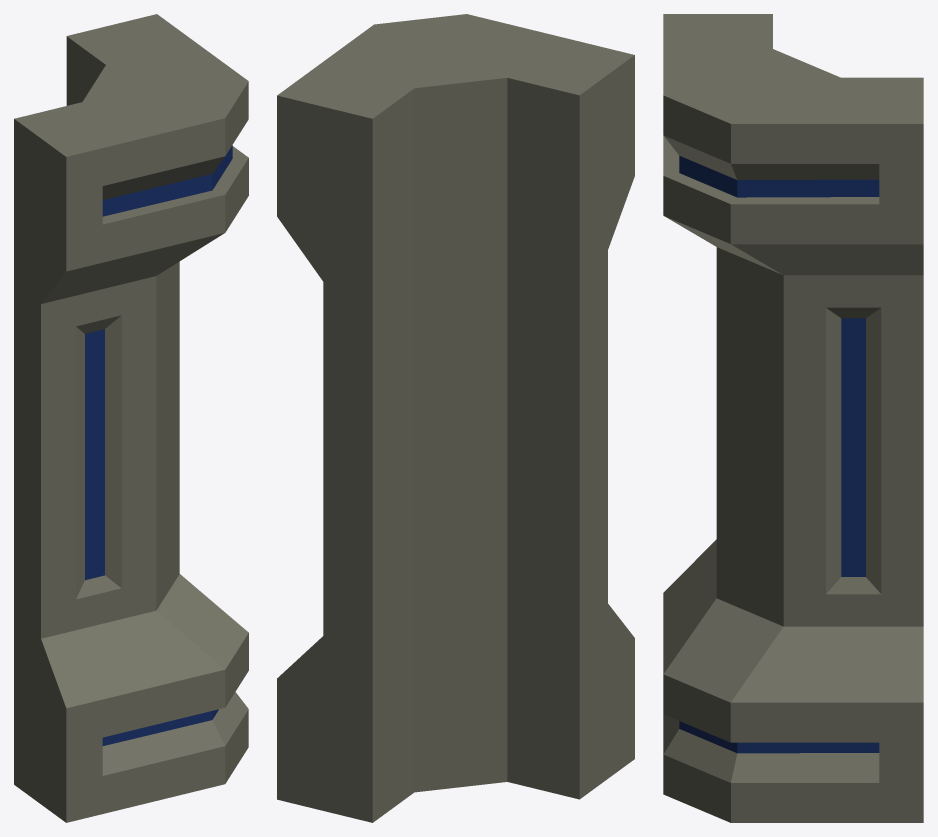
The model's file is LPSciFi_Corner3.fbx.
The picture shows the model from 3 angles, left to right: view 1: azimuth 30°, elevation 25°; view 2: azimuth 150°, elevation 25°; view 3: azimuth 270°, elevation 25°; orthographic projection. The views are drawn at different scales.
Visible parts, largest first — view 1: Corner3; view 2: Corner3; view 3: Corner3.
Part boxes in pixels (<box>): Corner3: <box>14,14,248,822</box>; Corner3: <box>277,14,634,822</box>; Corner3: <box>663,14,923,822</box>.
Size of the model in its own units: 135 by 400 by 135.
